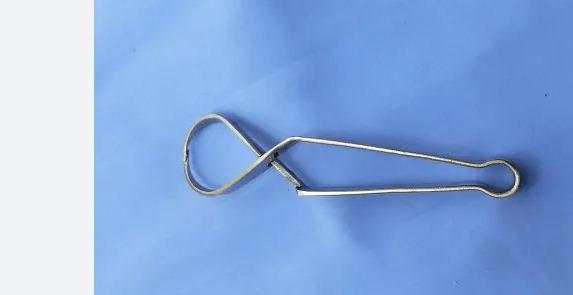Doyen Cross Action Towel Clamp: (181, 107, 522, 203)
